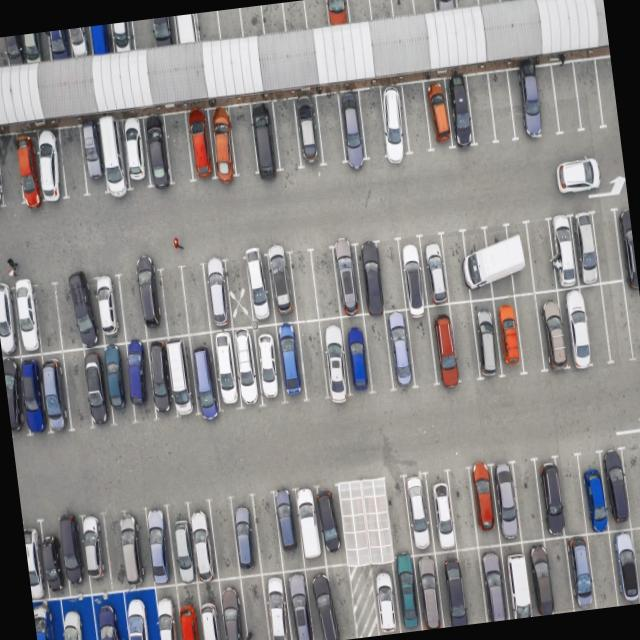car: (559, 284, 600, 370), (536, 290, 572, 372), (252, 324, 288, 406), (187, 332, 223, 414), (424, 469, 460, 551), (208, 329, 244, 411), (142, 504, 178, 586), (316, 312, 351, 396), (34, 351, 70, 432), (465, 463, 500, 546), (509, 64, 547, 140), (499, 540, 536, 618), (162, 334, 197, 416), (400, 471, 434, 555), (480, 222, 518, 297), (272, 320, 307, 401), (339, 312, 374, 393), (184, 501, 219, 582), (428, 304, 462, 386), (490, 460, 524, 542), (228, 327, 262, 409), (14, 354, 48, 436), (470, 295, 504, 376), (229, 495, 263, 576), (578, 454, 613, 532), (124, 340, 158, 420), (490, 293, 524, 373), (383, 309, 417, 389), (532, 458, 566, 538), (116, 510, 150, 590), (376, 85, 412, 160), (64, 276, 100, 351), (52, 514, 86, 593), (477, 544, 512, 620), (259, 570, 297, 640), (102, 339, 134, 422), (312, 486, 346, 564), (78, 512, 112, 590), (420, 78, 456, 151), (394, 237, 430, 310), (547, 214, 582, 289), (564, 532, 598, 609), (274, 489, 306, 570), (200, 258, 235, 332), (182, 108, 216, 184), (244, 249, 278, 325), (293, 488, 326, 566), (605, 526, 638, 604), (164, 504, 196, 584), (145, 338, 177, 418), (93, 274, 129, 345), (117, 116, 151, 191), (97, 119, 131, 194), (462, 225, 496, 300), (409, 551, 442, 628), (115, 584, 160, 640), (264, 249, 298, 323), (336, 90, 370, 164), (370, 562, 404, 636), (214, 574, 252, 640), (434, 549, 467, 625), (304, 564, 337, 640), (292, 95, 326, 168), (283, 567, 317, 640), (599, 452, 630, 532), (570, 210, 603, 285), (84, 346, 115, 425), (34, 129, 67, 203), (502, 222, 535, 296), (522, 540, 554, 616), (207, 107, 240, 180), (143, 115, 176, 188), (389, 558, 421, 632), (248, 101, 280, 174), (39, 518, 69, 595), (10, 282, 42, 354), (444, 78, 476, 150), (78, 123, 110, 195), (190, 580, 228, 640), (14, 131, 44, 206), (418, 236, 450, 306), (332, 246, 364, 315), (353, 245, 385, 314), (60, 591, 105, 640), (137, 268, 168, 338), (48, 594, 95, 640), (74, 274, 104, 346), (150, 582, 187, 640), (170, 581, 206, 640), (89, 592, 132, 640), (23, 526, 49, 604), (2, 356, 26, 434), (616, 206, 638, 282), (0, 282, 21, 356), (32, 598, 62, 640), (88, 23, 116, 57), (109, 21, 137, 54), (150, 15, 177, 48), (46, 28, 72, 61), (20, 32, 46, 64), (172, 13, 198, 44), (38, 30, 62, 63), (2, 34, 26, 66), (66, 26, 90, 58), (323, 0, 350, 26), (433, 0, 460, 10)
free: (351, 482, 387, 568), (320, 562, 358, 640), (446, 300, 482, 382), (600, 280, 636, 362), (292, 320, 328, 400), (252, 494, 287, 576), (514, 292, 550, 371), (452, 546, 488, 623), (381, 478, 414, 562), (404, 308, 439, 387), (585, 528, 620, 606), (510, 462, 544, 542), (60, 348, 94, 428), (556, 458, 590, 538), (206, 500, 240, 580), (446, 468, 478, 552), (360, 311, 394, 389), (590, 208, 624, 286), (236, 572, 275, 640), (463, 70, 497, 146), (227, 100, 261, 176), (580, 284, 612, 364), (524, 220, 558, 295), (398, 81, 432, 156), (314, 91, 348, 166), (162, 111, 196, 186), (356, 88, 390, 162), (285, 251, 319, 324), (158, 266, 192, 338), (270, 98, 304, 170), (438, 232, 472, 304), (223, 254, 256, 328), (544, 536, 576, 612), (372, 241, 405, 313), (58, 126, 91, 198), (550, 60, 582, 134), (574, 59, 606, 132), (308, 248, 340, 320), (486, 70, 518, 142), (32, 282, 64, 354), (178, 264, 210, 334), (532, 64, 562, 138), (54, 280, 86, 349), (340, 488, 368, 566), (100, 513, 128, 589), (118, 272, 148, 341), (0, 134, 27, 208), (594, 58, 618, 128), (621, 447, 640, 528), (622, 280, 640, 358), (238, 5, 265, 38), (260, 2, 287, 35), (215, 8, 242, 40), (281, 0, 308, 32), (131, 18, 157, 51), (195, 10, 221, 42), (302, 0, 330, 29), (344, 0, 371, 23), (632, 524, 640, 601), (367, 0, 394, 20), (389, 0, 416, 16), (410, 0, 437, 14), (0, 36, 9, 68), (452, 0, 478, 8)
